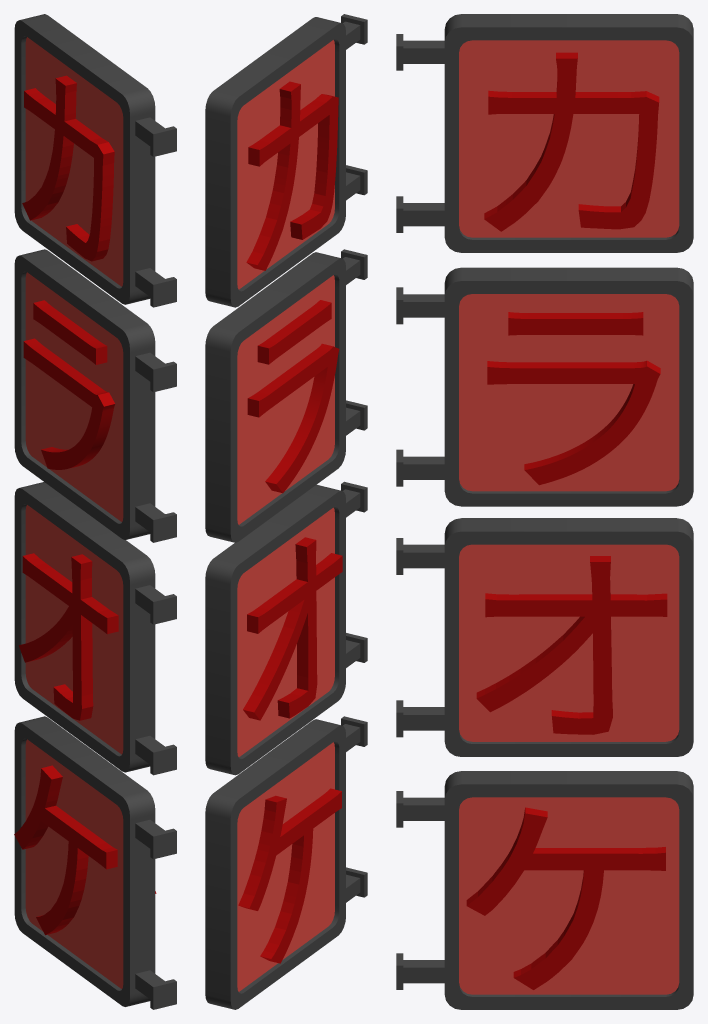
Rendered from Neon_Sign_1.fbx.
3 renders of one model, left to right at view 1: azimuth 30°, elevation 25°; view 2: azimuth 150°, elevation 25°; view 3: azimuth 270°, elevation 25°, orthographic. The views are drawn at different scales.
Visible parts, largest first — view 1: Cube.021, Cube.001, Cube.014, Cube.013, Text.004, Text.006, Text.005, Text.007; view 2: Cube.021, Cube.001, Cube.014, Cube.013, Text.004, Text.006, Text.005, Text.007; view 3: Cube.021, Cube.001, Cube.014, Cube.013, Text.002, Text, Text.001, Text.003.
Boxes of the visible parts, left/top/right/bottom form: Cube.021: left=14, top=716, right=176, bottom=1009; Cube.001: left=14, top=249, right=176, bottom=542; Cube.014: left=14, top=482, right=176, bottom=775; Cube.013: left=14, top=14, right=176, bottom=307; Text.004: left=22, top=75, right=114, bottom=261; Text.006: left=19, top=553, right=118, bottom=720; Text.005: left=23, top=300, right=114, bottom=469; Text.007: left=14, top=765, right=117, bottom=935; Cube.021: left=205, top=716, right=367, bottom=1009; Cube.001: left=205, top=249, right=367, bottom=542; Cube.014: left=205, top=481, right=367, bottom=775; Cube.013: left=205, top=14, right=367, bottom=307; Text.004: left=246, top=81, right=338, bottom=270; Text.006: left=243, top=537, right=342, bottom=720; Text.005: left=247, top=300, right=339, bottom=493; Text.007: left=238, top=788, right=341, bottom=963; Cube.021: left=396, top=771, right=693, bottom=1009; Cube.001: left=396, top=267, right=693, bottom=506; Cube.014: left=396, top=518, right=693, bottom=756; Cube.013: left=396, top=14, right=693, bottom=252; Text.002: left=476, top=556, right=667, bottom=734; Text: left=484, top=52, right=659, bottom=231; Text.001: left=487, top=312, right=660, bottom=485; Text.003: left=466, top=807, right=665, bottom=989.
Size of the model in its own units: 21.33 by 401 by 110.
Materials: 4 (2 with a texture image).
